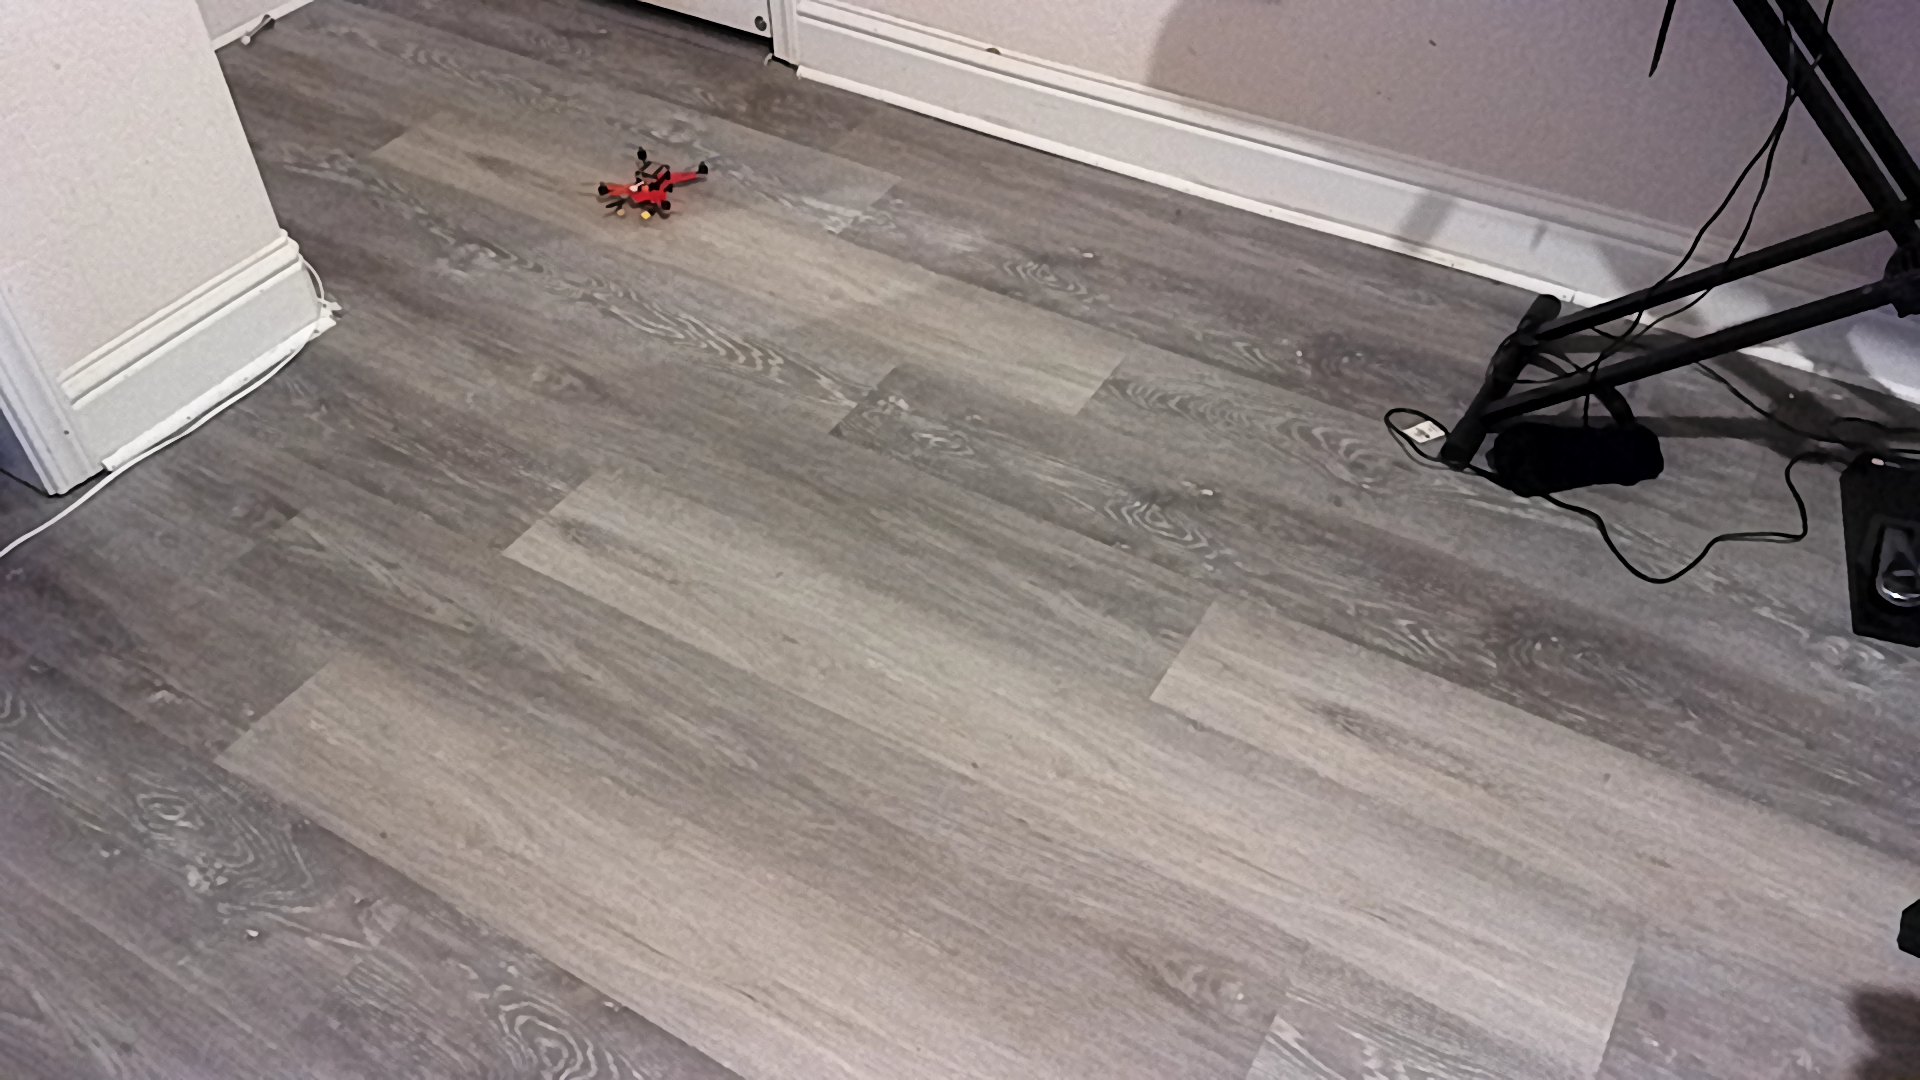drone: (574, 133, 735, 228)
